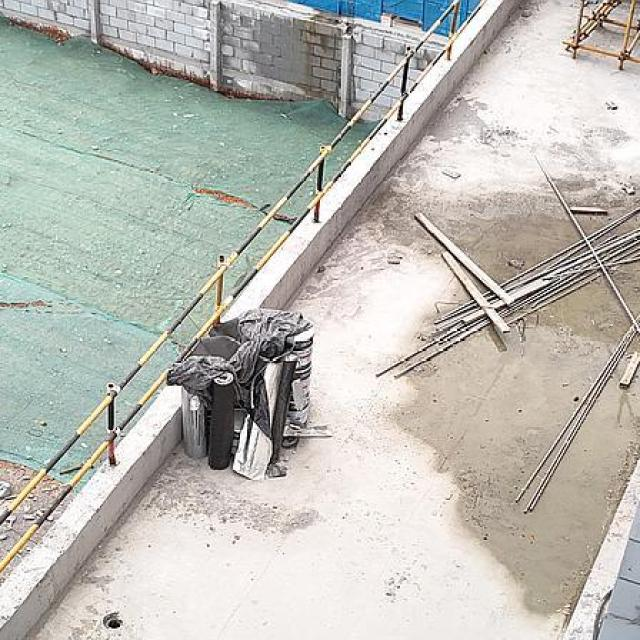edge_guardrail: (0, 0, 487, 574)
